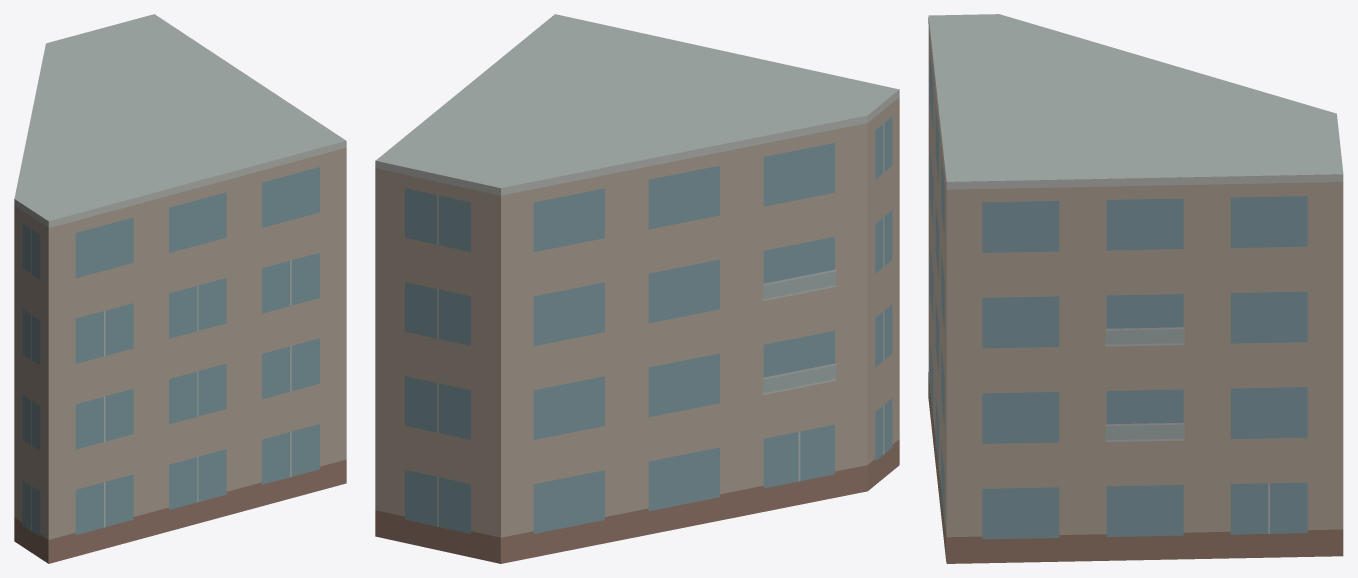
File: residential-b369444b-9392-4353-b4ca-3e12c264c40e.glb
The picture shows the model from 3 angles, left to right: view 1: azimuth 30°, elevation 25°; view 2: azimuth 150°, elevation 25°; view 3: azimuth 270°, elevation 25°; orthographic projection. The views are drawn at different scales.
Parts seen in each view (by area): view 1: residential-b369444b-9392-4353-b4ca-3e12c264c40e.tmp; view 2: residential-b369444b-9392-4353-b4ca-3e12c264c40e.tmp; view 3: residential-b369444b-9392-4353-b4ca-3e12c264c40e.tmp.
Boxes of the visible parts, <box> form: residential-b369444b-9392-4353-b4ca-3e12c264c40e.tmp: <box>14,14,346,563</box>; residential-b369444b-9392-4353-b4ca-3e12c264c40e.tmp: <box>375,14,899,563</box>; residential-b369444b-9392-4353-b4ca-3e12c264c40e.tmp: <box>928,14,1343,563</box>.
Size of the model in its own units: 11.51 by 12.2 by 12.02.
